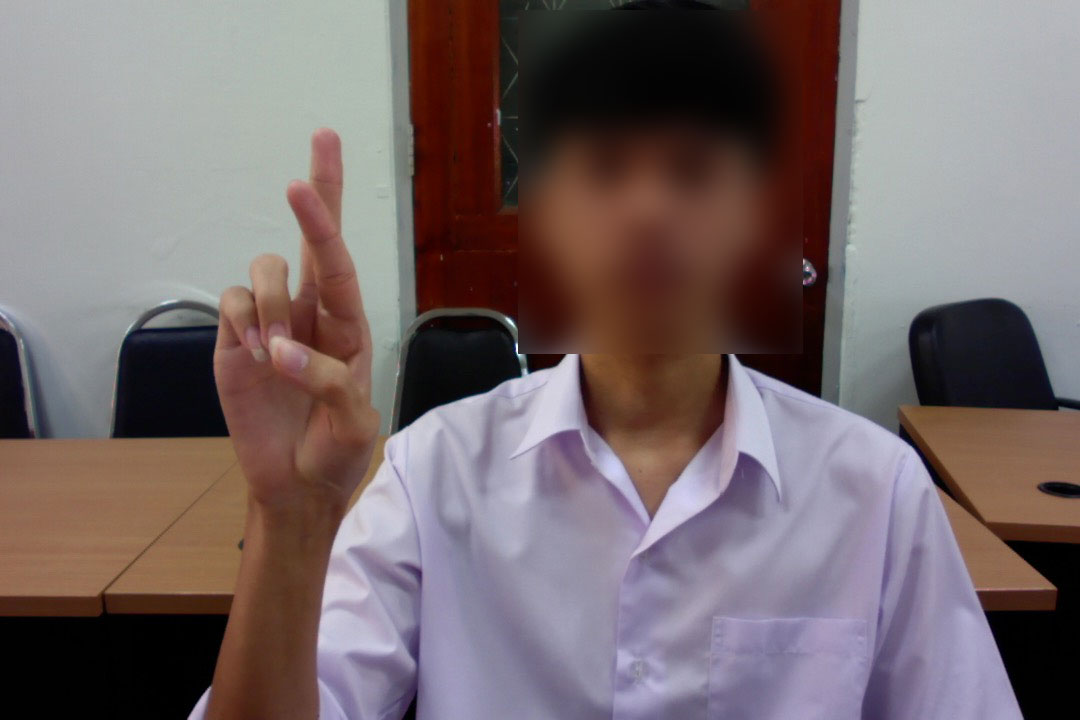rao: (199, 116, 400, 518)
